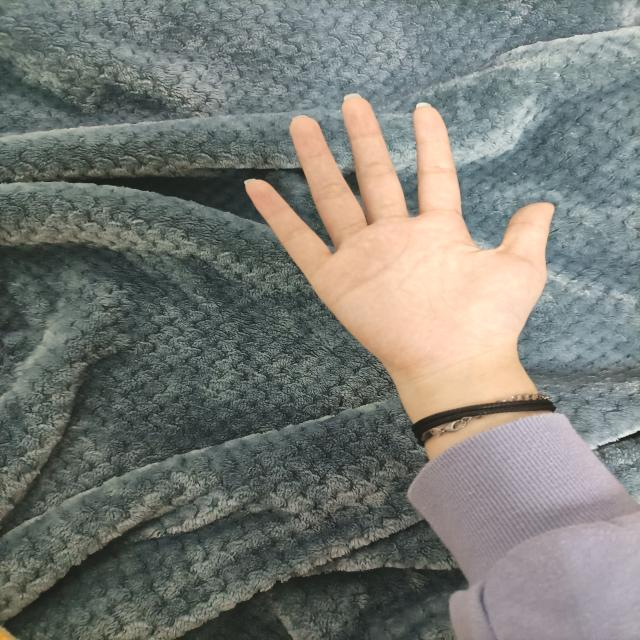no_glove: (232, 71, 582, 402)
